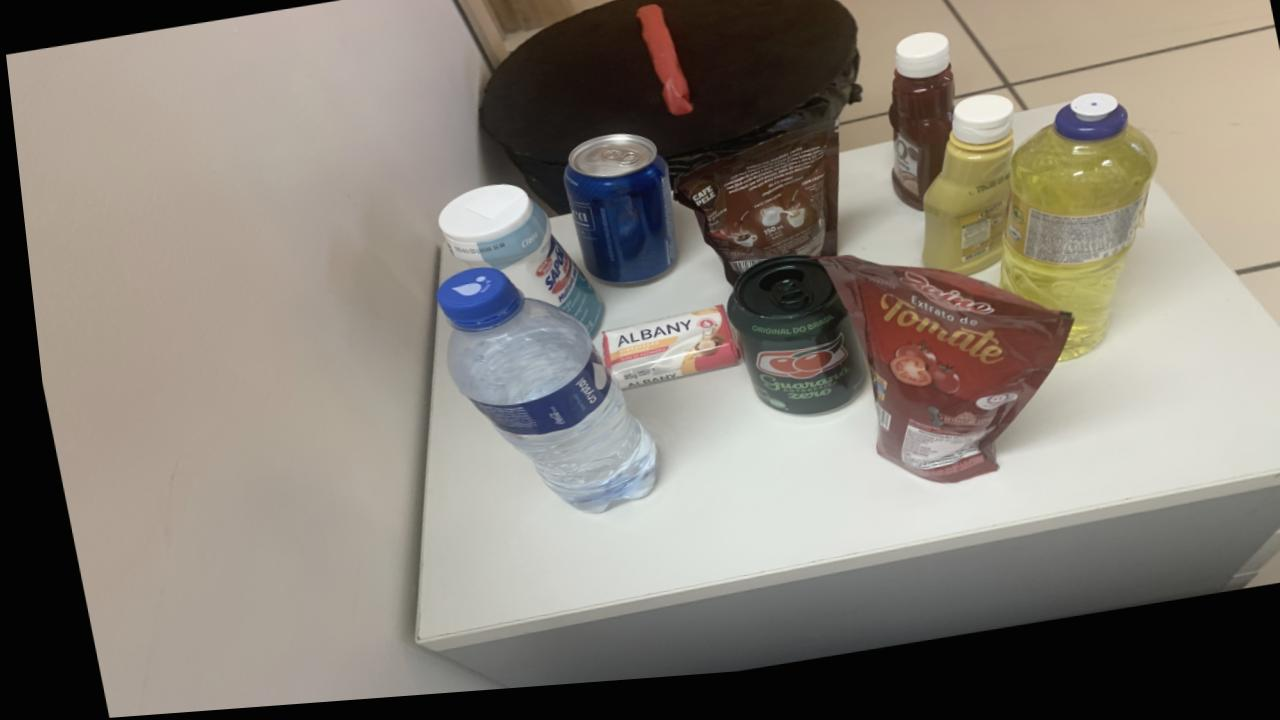Cleaner-Cleanup_Items: (432, 192, 596, 345)
Coffee-Pantry_Items: (667, 132, 834, 294)
Detergent-Cleanup_Items: (992, 110, 1151, 375)
Guarana_Can-Drinks: (719, 267, 856, 427)
Ketchup-Pantry_Items: (883, 47, 951, 224)
Mustard-Pantry_Items: (914, 110, 1010, 290)
Soap-Cleanup_Items: (592, 315, 729, 398)
Tomato_Sauce-Pantry_Items: (813, 268, 1062, 497)
Tonic-Drinks: (558, 143, 670, 293)
Water_Bottle-Drinks: (429, 274, 645, 521)
